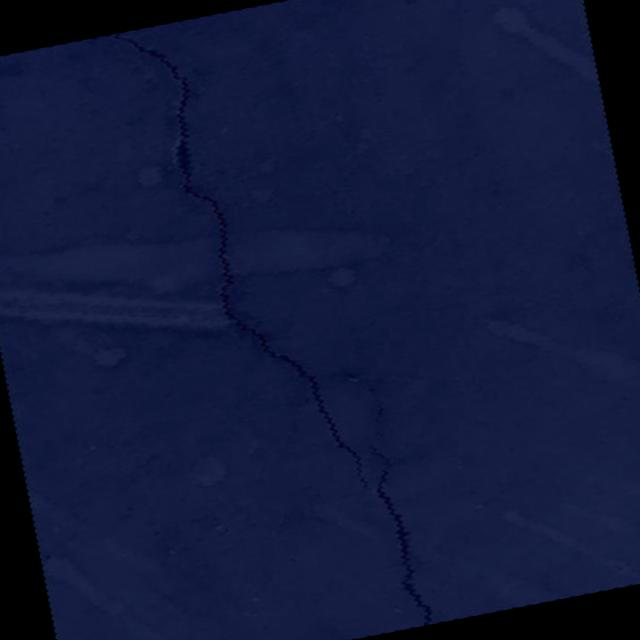crack: (114, 2, 372, 523), (334, 364, 438, 633)
